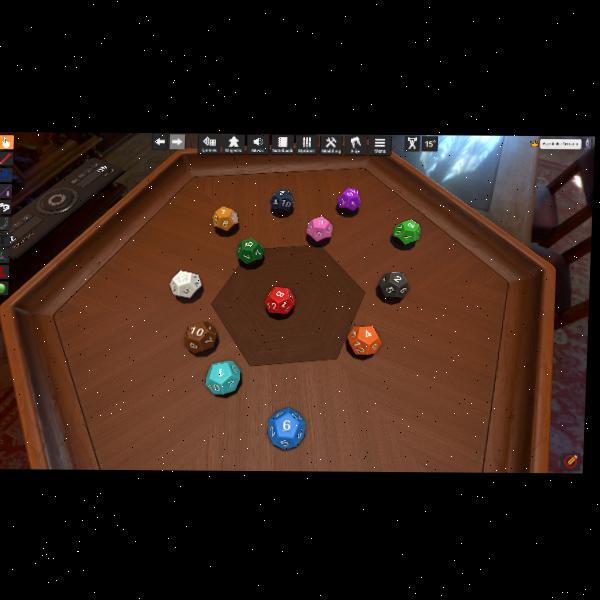d12: (267, 406, 307, 448), (204, 360, 240, 393), (182, 321, 213, 354), (347, 325, 380, 355), (170, 269, 201, 298), (265, 286, 295, 314), (237, 238, 265, 266), (379, 272, 407, 298), (392, 219, 419, 245), (211, 206, 237, 232), (306, 216, 332, 241), (269, 189, 294, 214), (337, 187, 361, 213)
